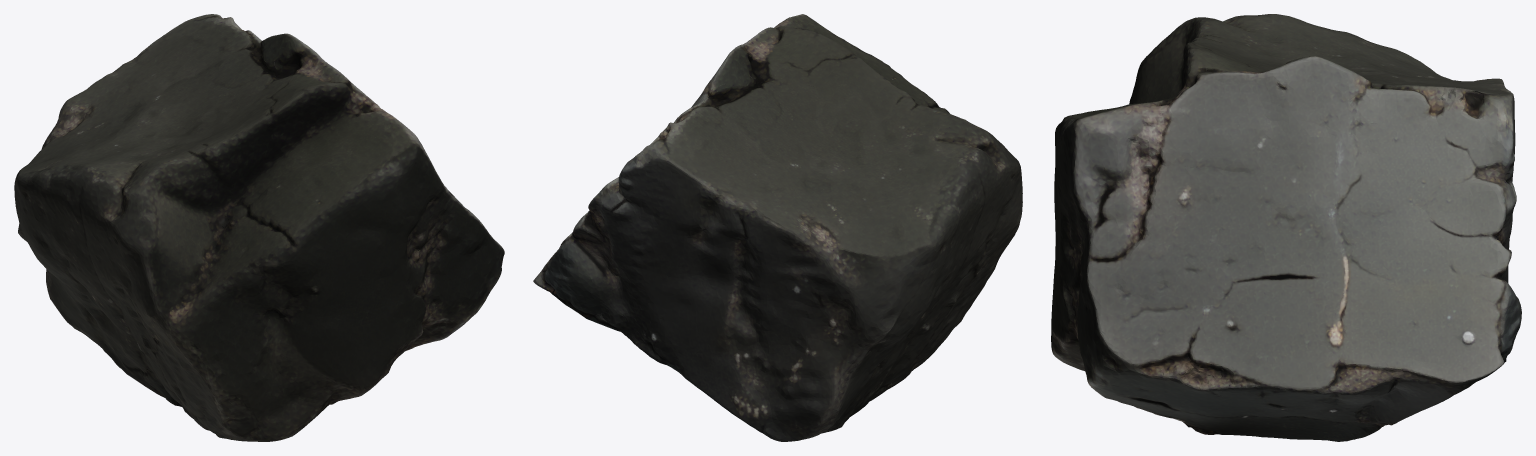
File: specimen.glb
3 views of the same model, side by side, from view 1: azimuth 30°, elevation 25°; view 2: azimuth 150°, elevation 25°; view 3: azimuth 270°, elevation 25° (orthographic). The views are drawn at different scales.
Parts seen in each view (by area): view 1: world; view 2: world; view 3: world.
Boxes of the visible parts, x1,y1,x2,y2 form: world: (14,14,504,441); world: (533,14,1022,441); world: (1051,14,1521,441).
Size of the model in its own units: 0.9927 by 0.8428 by 0.8926.
Materials: 1 (1 with a texture image).
